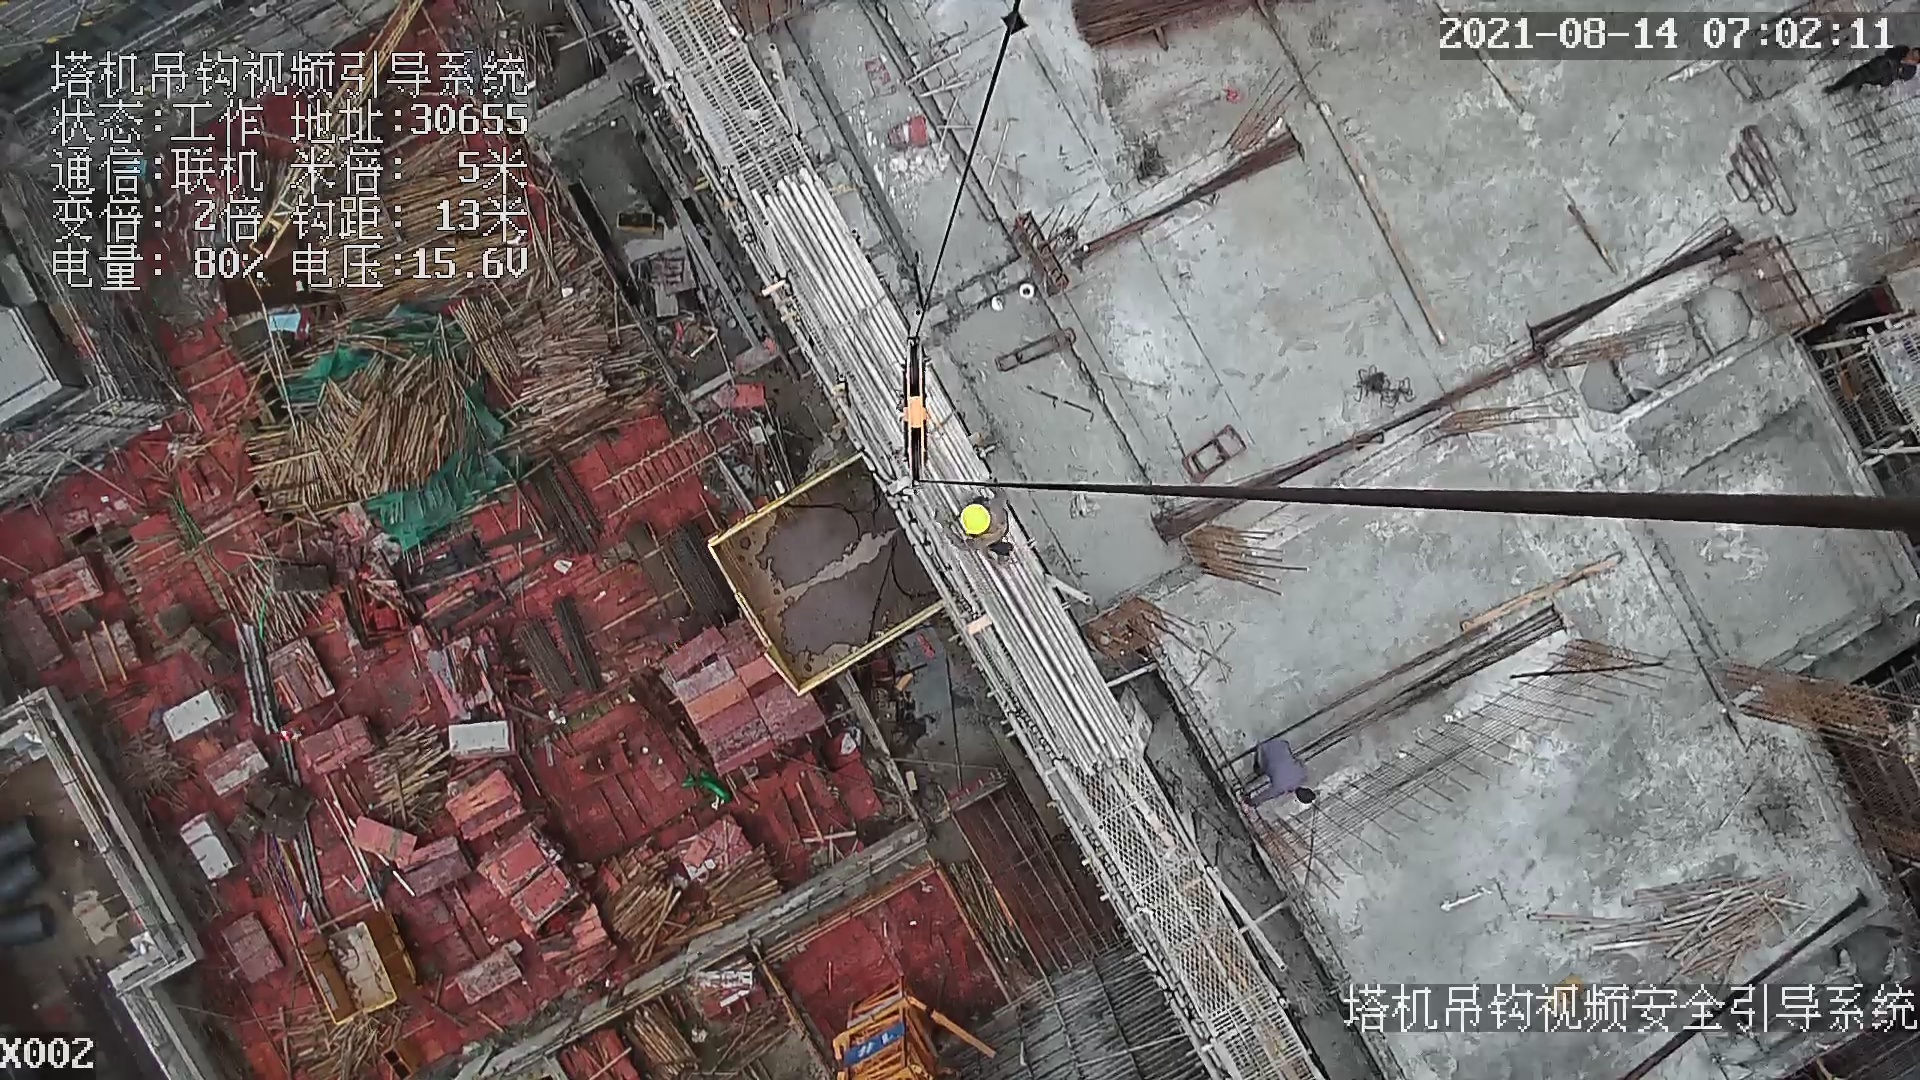helmet: (960, 503, 992, 534)
hook: (895, 337, 937, 481)
person: (1246, 726, 1323, 810), (944, 481, 1015, 565)
